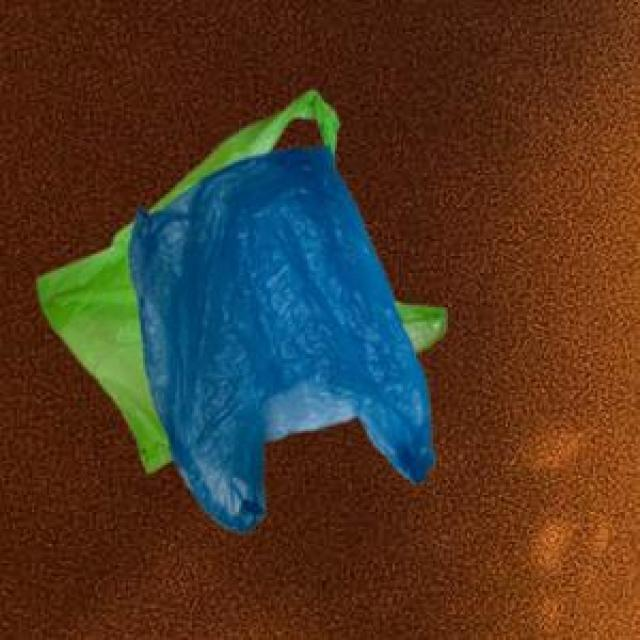waste: (38, 90, 446, 531)
